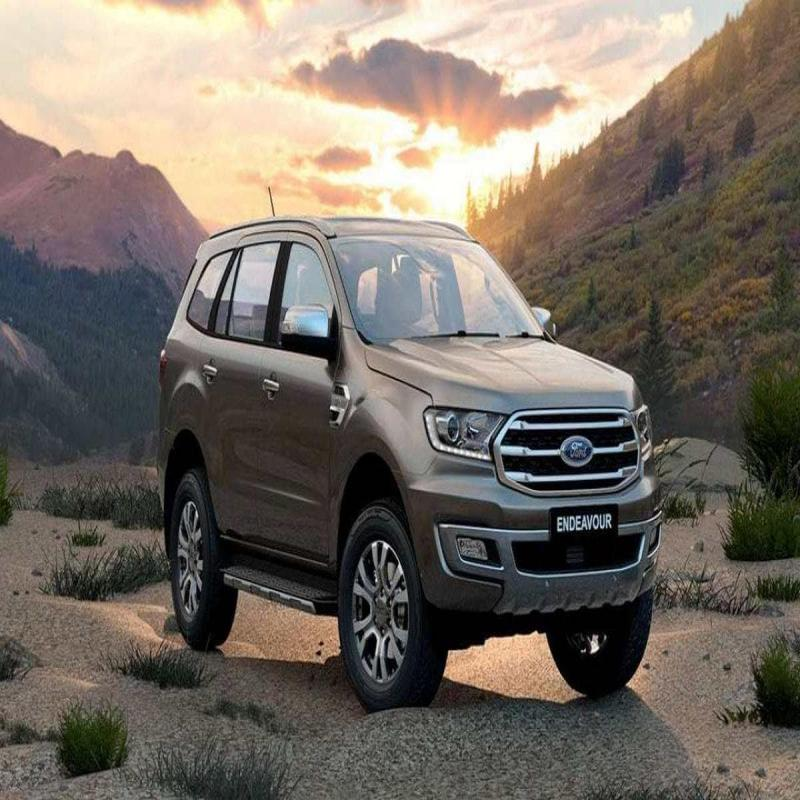car: (147, 188, 658, 739)
